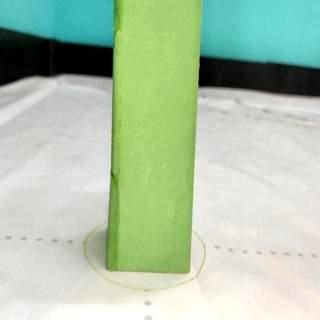greenbox: (104, 0, 206, 273)
